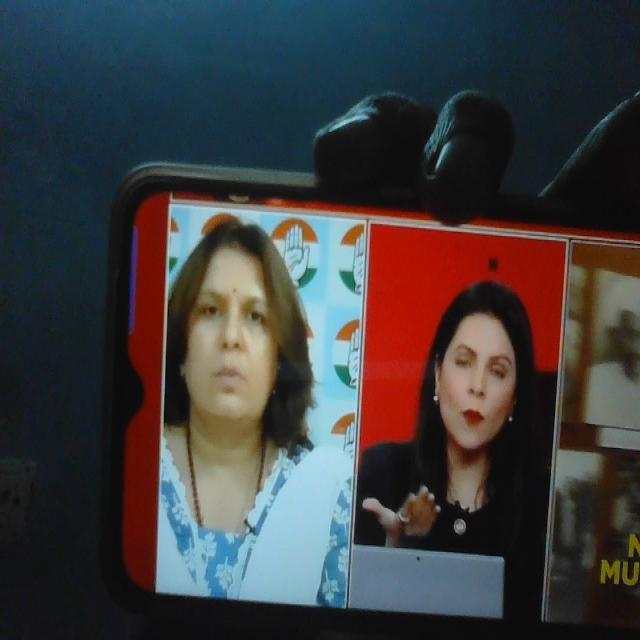fake: (176, 215, 291, 432), (425, 265, 530, 464)
